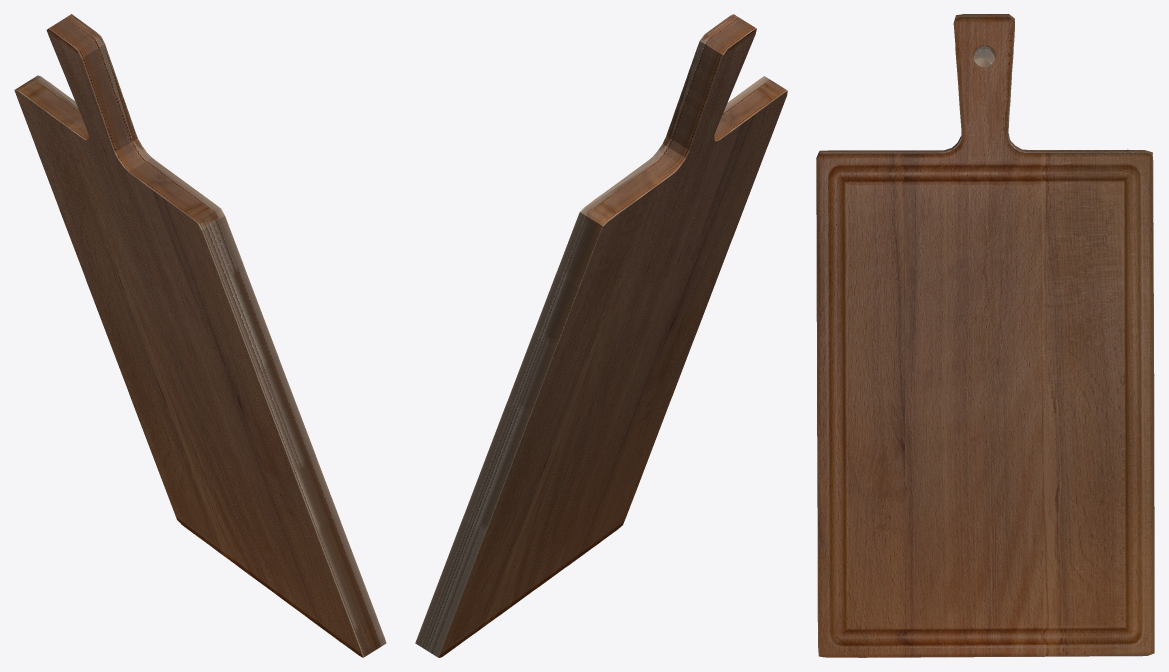
File: cutting-board.glb
The picture shows the model from 3 angles, left to right: view 1: azimuth 30°, elevation 25°; view 2: azimuth 150°, elevation 25°; view 3: azimuth 270°, elevation 25°; orthographic projection. The views are drawn at different scales.
Parts seen in each view (by area): view 1: Body; view 2: Body; view 3: Body.
Boxes of the visible parts, x1,y1,x2,y2 form: Body: (14, 14, 386, 657); Body: (415, 14, 787, 657); Body: (816, 14, 1154, 657).
Size of what is drawn, in the model's own units: 0.1406 by 0.3528 by 0.1942.
1 material, 1 textured.
